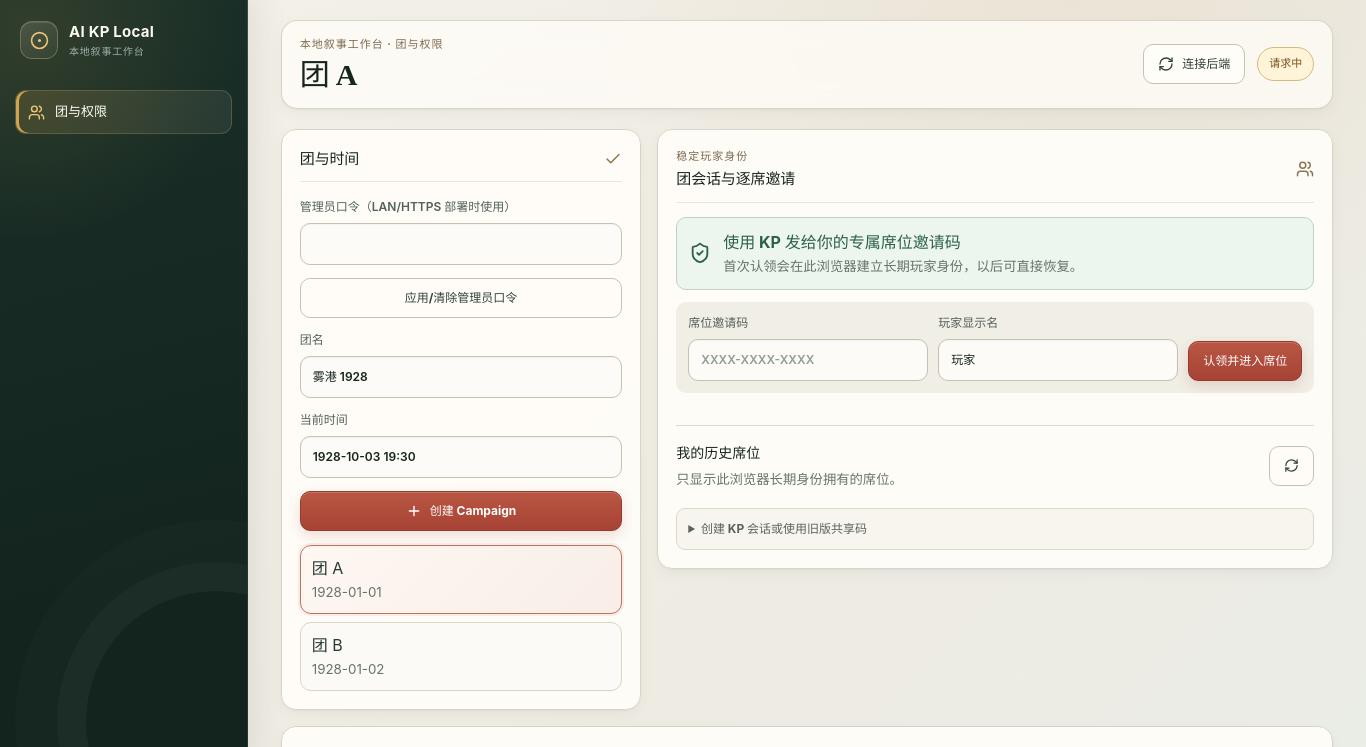
Test case: App workspace request isolation › ignores a late response after the user switches to another campaign
Click the button "团 B 1928-01-02" at (327, 645), box x1=300 y1=622 x2=622 y2=691
(page scrolled)
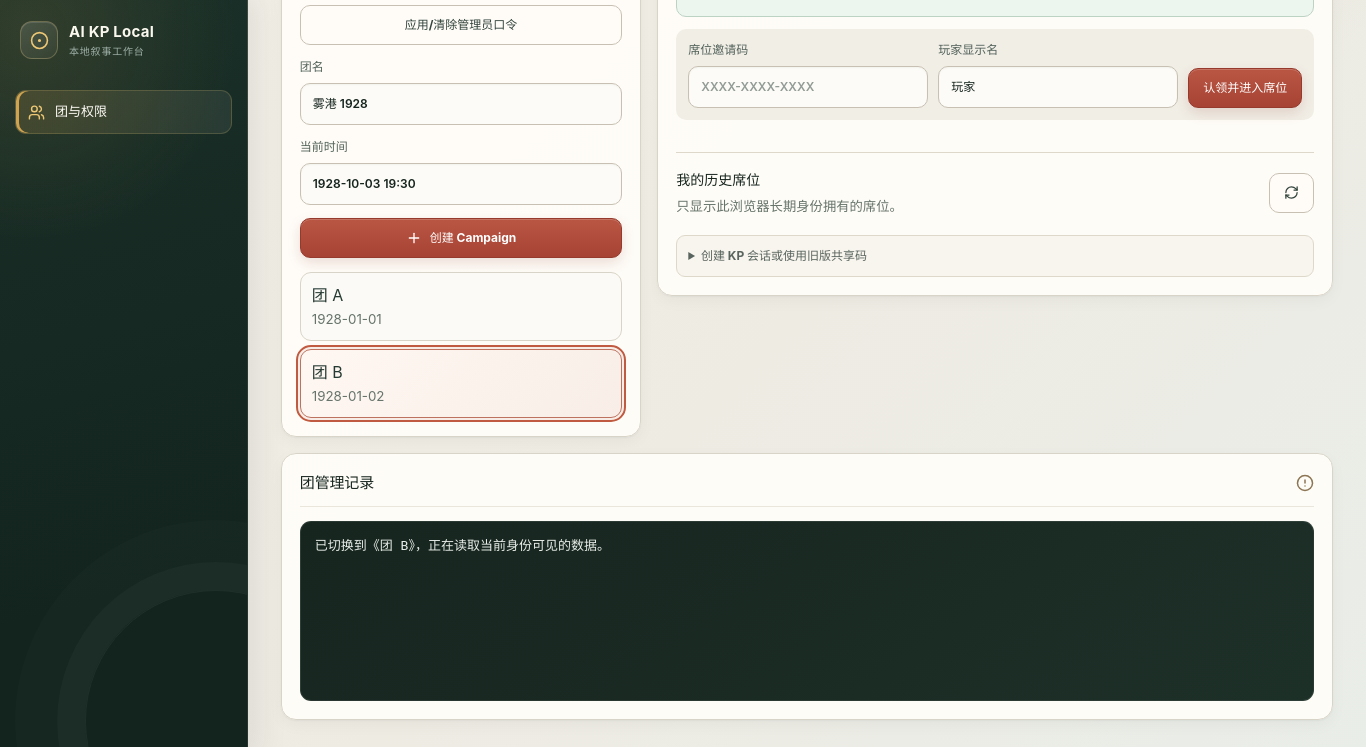
Expected: the text "已切换到《团 B》，正在读取当前身份可见的数据。" is shown, x1=300 y1=520 x2=1314 y2=700
